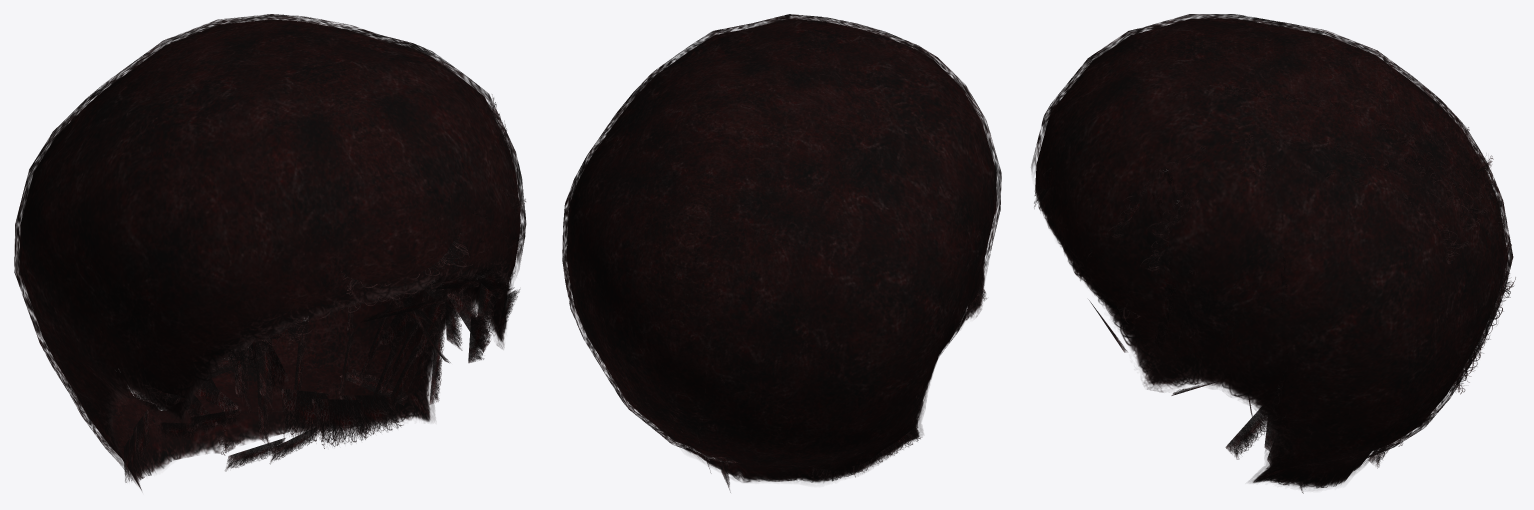
File: afro-african.glb
3 renders of one model, left to right at view 1: azimuth 30°, elevation 25°; view 2: azimuth 150°, elevation 25°; view 3: azimuth 270°, elevation 25°, orthographic. The views are drawn at different scales.
Parts seen in each view (by area): view 1: hair_afro; view 2: hair_afro; view 3: hair_afro.
Part boxes in pixels (<box>): hair_afro: <box>14,14,526,490</box>; hair_afro: <box>562,14,1001,492</box>; hair_afro: <box>1031,14,1515,493</box>.
Size of the model in its own units: 0.2085 by 0.2179 by 0.2273.
1 material, 1 textured.
